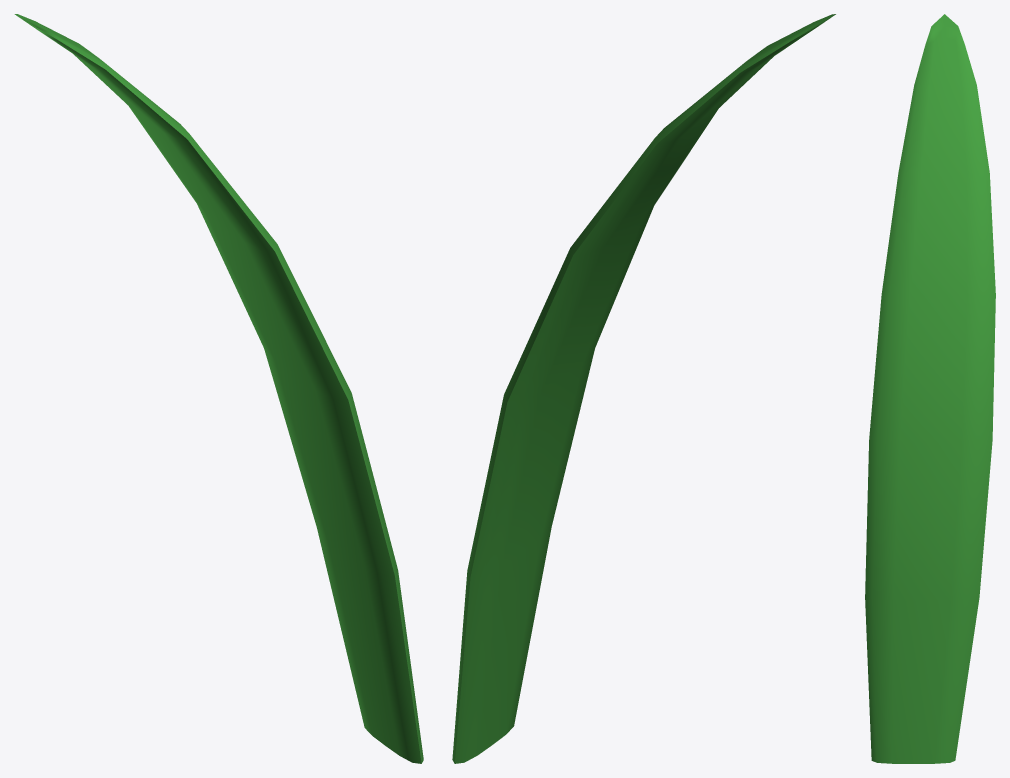
Rendered from SM_Grass_Blade_Medium_02.fbx.
The picture shows the model from 3 angles, left to right: view 1: azimuth 30°, elevation 25°; view 2: azimuth 150°, elevation 25°; view 3: azimuth 270°, elevation 25°; orthographic projection. The views are drawn at different scales.
Parts seen in each view (by area): view 1: Cube; view 2: Cube; view 3: Cube.
Part boxes in pixels (box(x1,y1,x2,y2)): Cube: box(14, 14, 423, 763); Cube: box(452, 14, 835, 763); Cube: box(865, 14, 995, 763).
Bounding box in the file's own units: 13.28 × 27.65 × 5.35.
